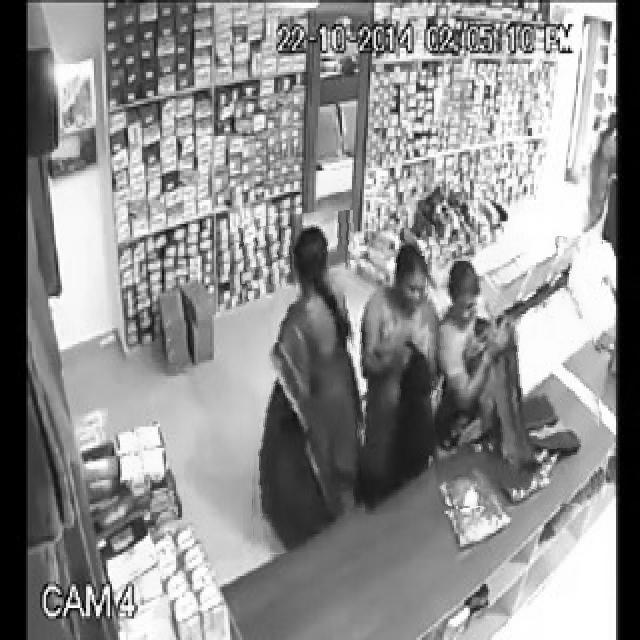Normal: (428, 237, 603, 506), (243, 212, 371, 553), (349, 226, 453, 514)
